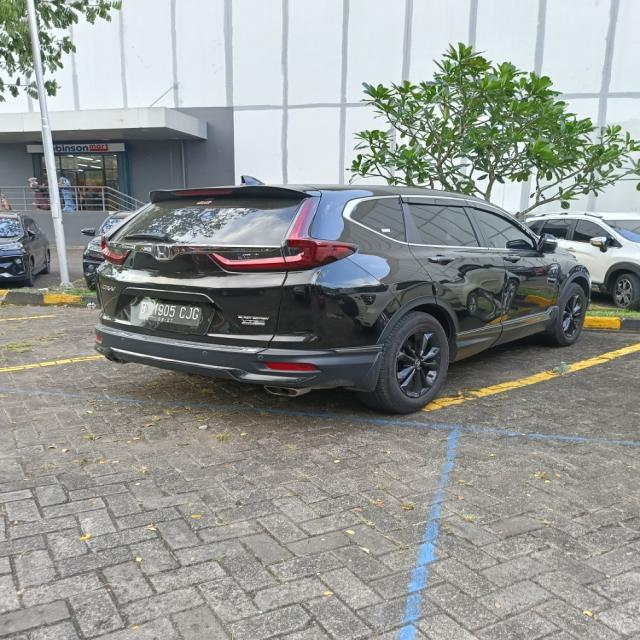plates: (126, 296, 209, 331)
